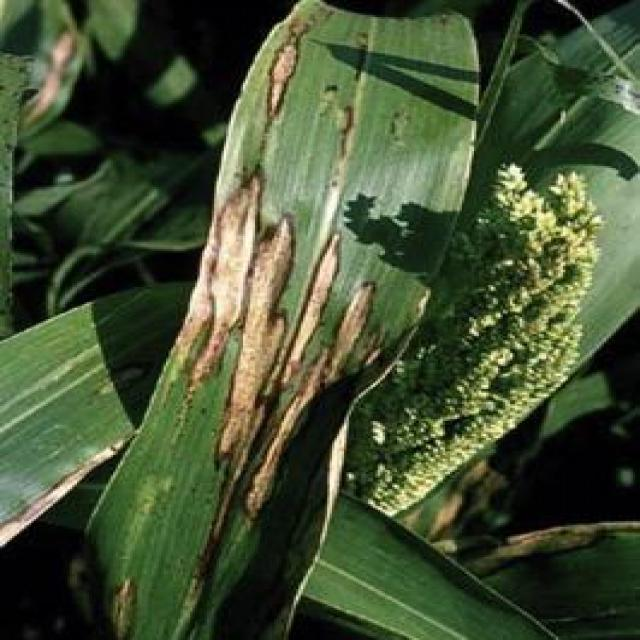blight: (217, 163, 317, 468)
